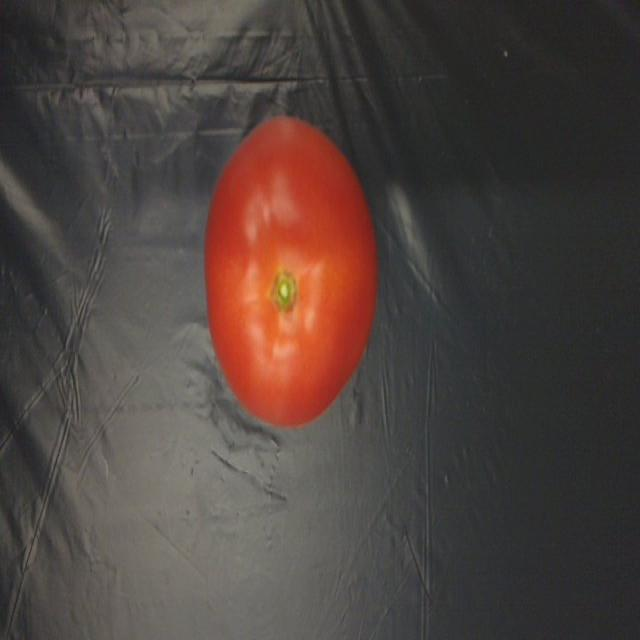sari: (180, 116, 377, 438)
